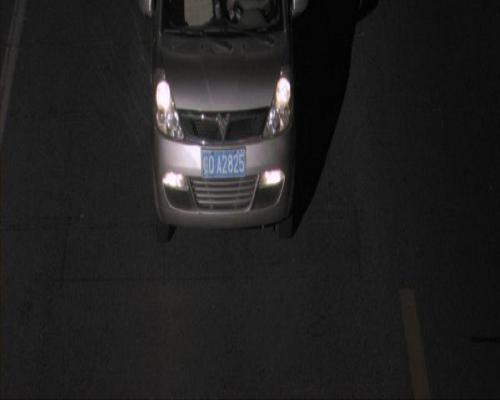Carplate: (199, 140, 247, 183)
